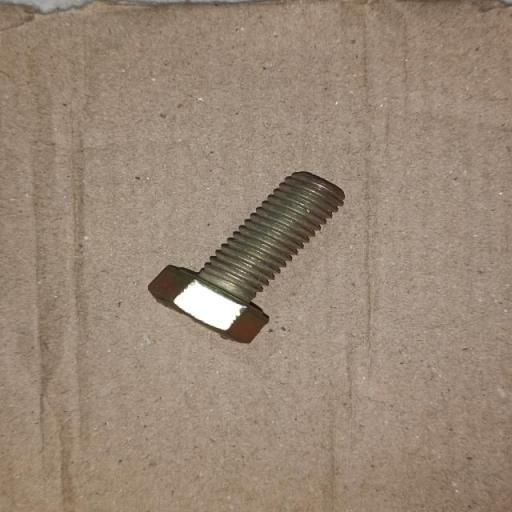Bolt: (147, 170, 345, 344)
